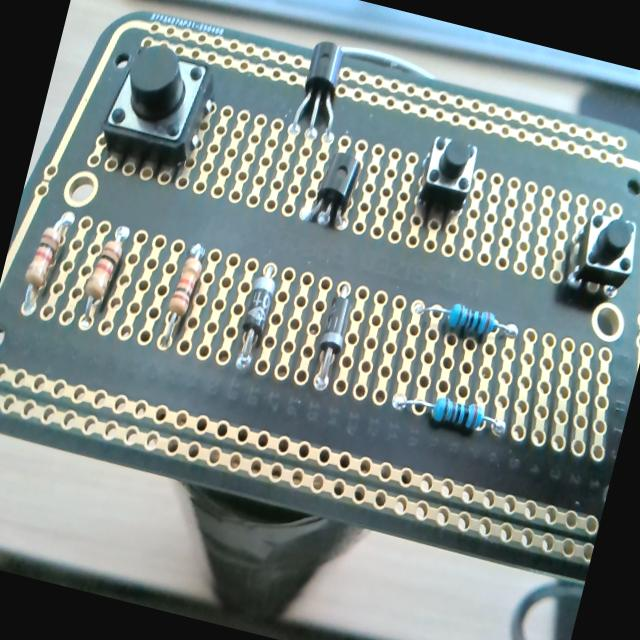diode: (305, 282, 356, 400), (230, 260, 281, 374)
resistor: (18, 203, 78, 318), (74, 218, 130, 334), (394, 384, 508, 439), (413, 294, 521, 351), (156, 239, 208, 353)
switch: (94, 35, 224, 181), (408, 132, 482, 235), (567, 202, 640, 295)
transistor: (280, 22, 367, 128), (302, 141, 366, 233)
